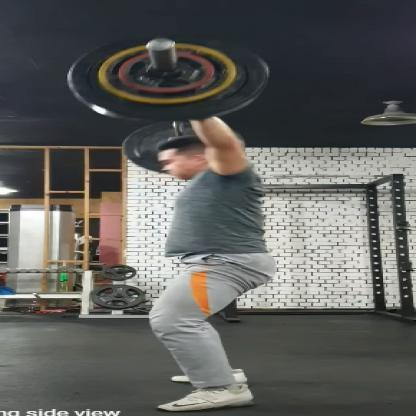barbell: (67, 20, 272, 176)
